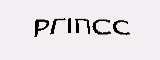І: (65, 12, 74, 35)
Г: (48, 13, 66, 37)
П: (75, 12, 92, 34)
Р: (31, 15, 48, 37)
С: (114, 11, 134, 38), (92, 13, 111, 38)
